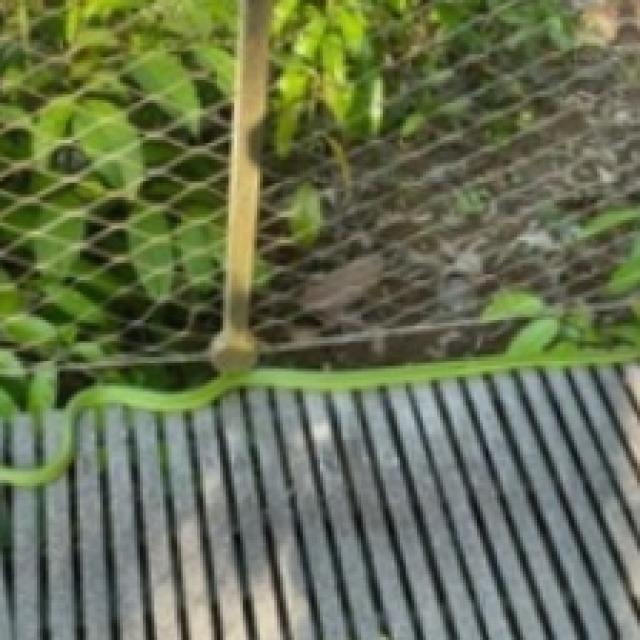red-tailed green ratsnake: (0, 356, 621, 487)
